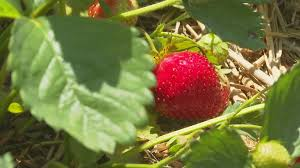ripe: (142, 46, 236, 128)
